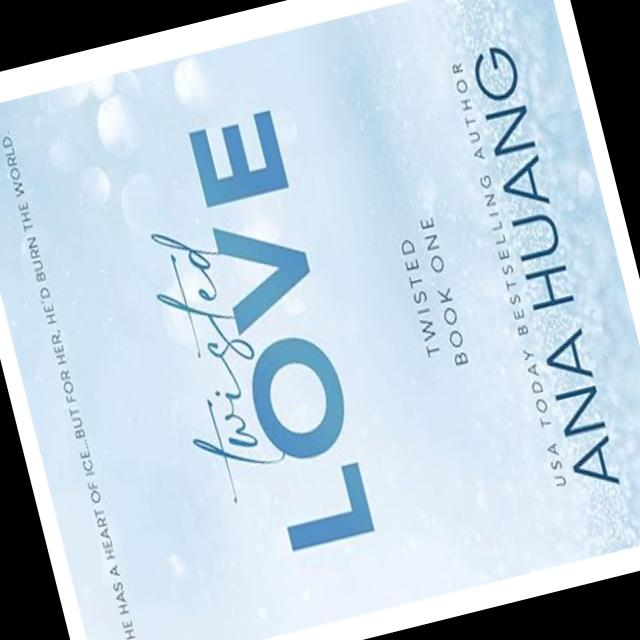titles-or-authors: (102, 82, 394, 594), (459, 24, 632, 508)
